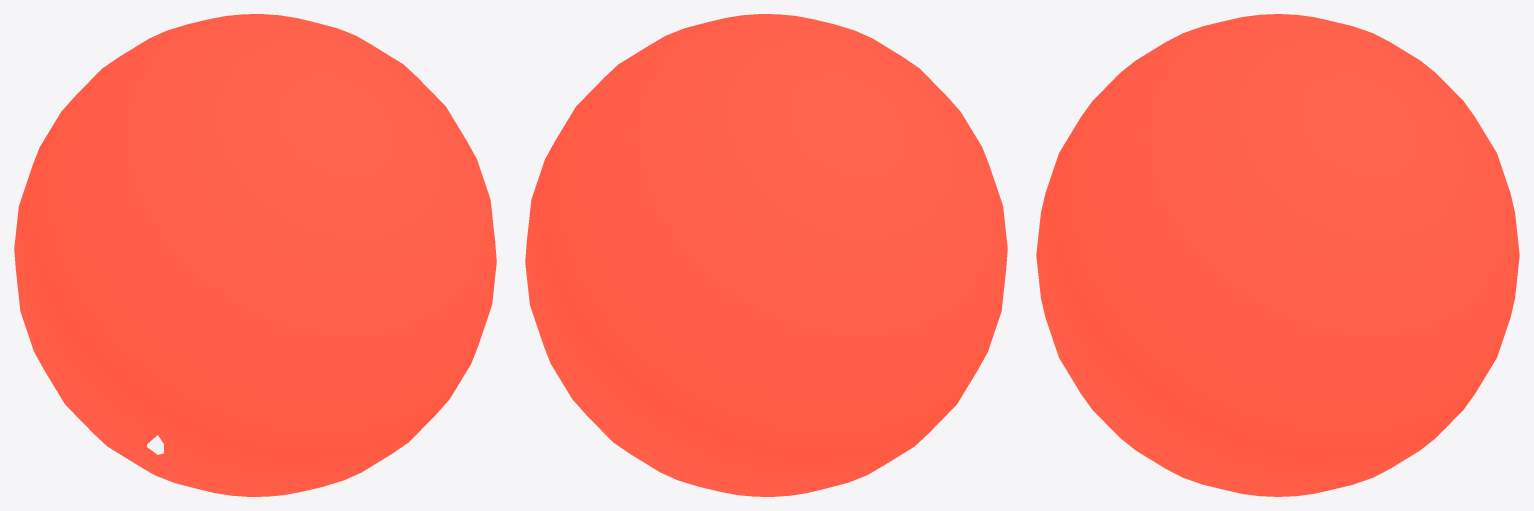
Rendered from petroleo.glb.
3 views of the same model, side by side, from view 1: azimuth 30°, elevation 25°; view 2: azimuth 150°, elevation 25°; view 3: azimuth 270°, elevation 25° (orthographic).
Visible parts, largest first — view 1: Sphere.012; view 2: Sphere.012; view 3: Sphere.012.
Boxes of the visible parts, left/top/right/bottom form: Sphere.012: left=14, top=14, right=496, bottom=496; Sphere.012: left=525, top=14, right=1007, bottom=496; Sphere.012: left=1036, top=14, right=1519, bottom=496.
Size of the model in its own units: 5.15 by 5.15 by 5.15.
